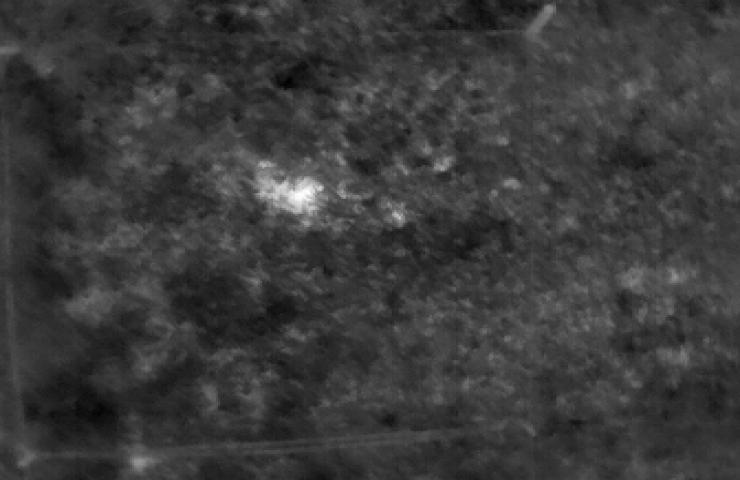landmines: (254, 172, 327, 221)
